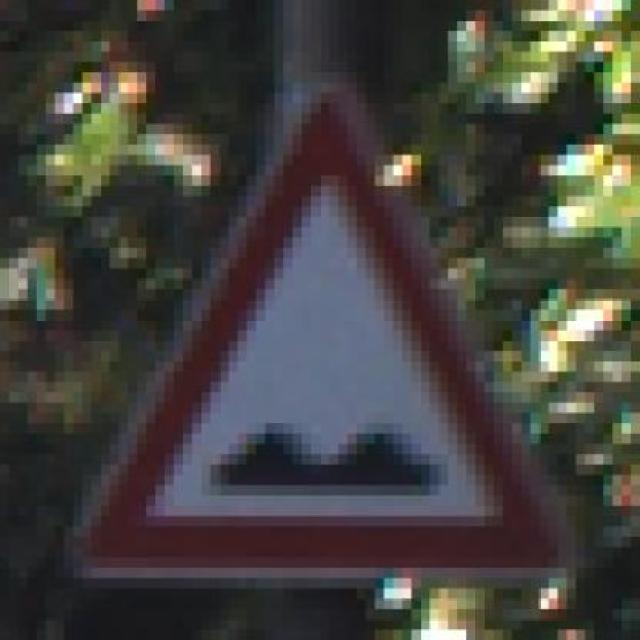Uneven Road: (64, 61, 576, 578)
